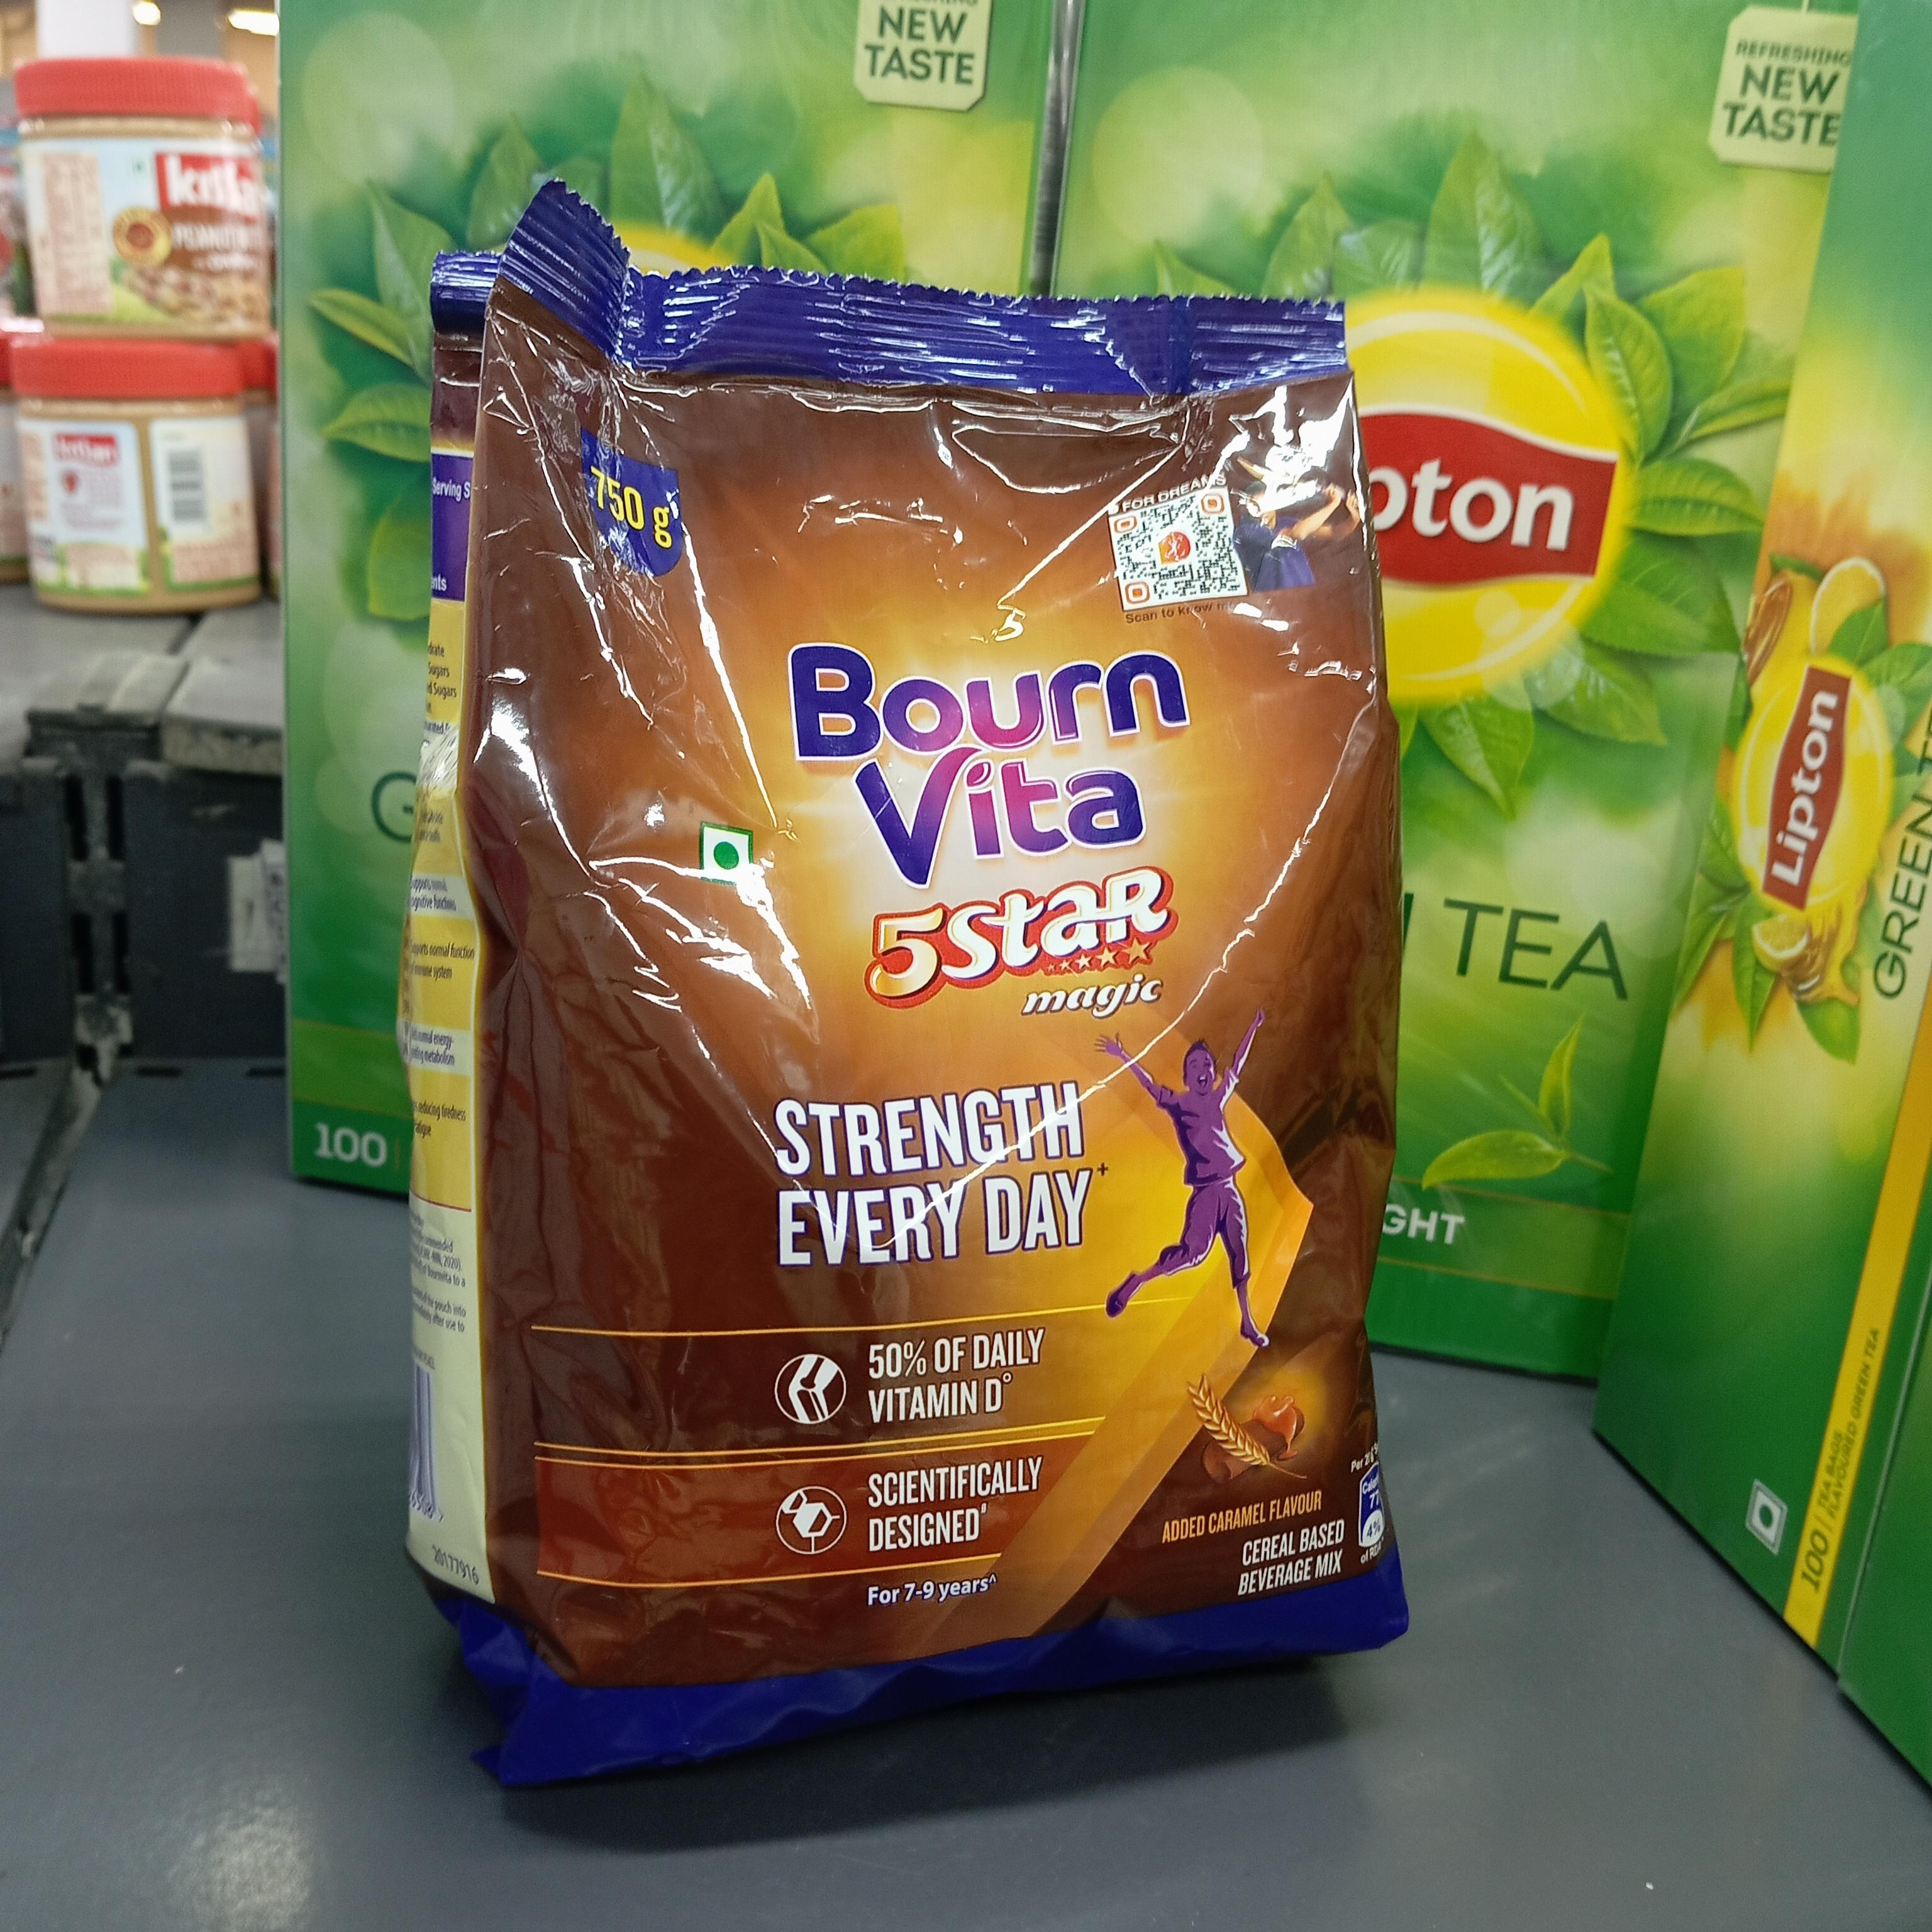BOURN_VITA_FIVE_STAR_MAGIC_750_G_POUCH: (478, 219, 1359, 1792)
